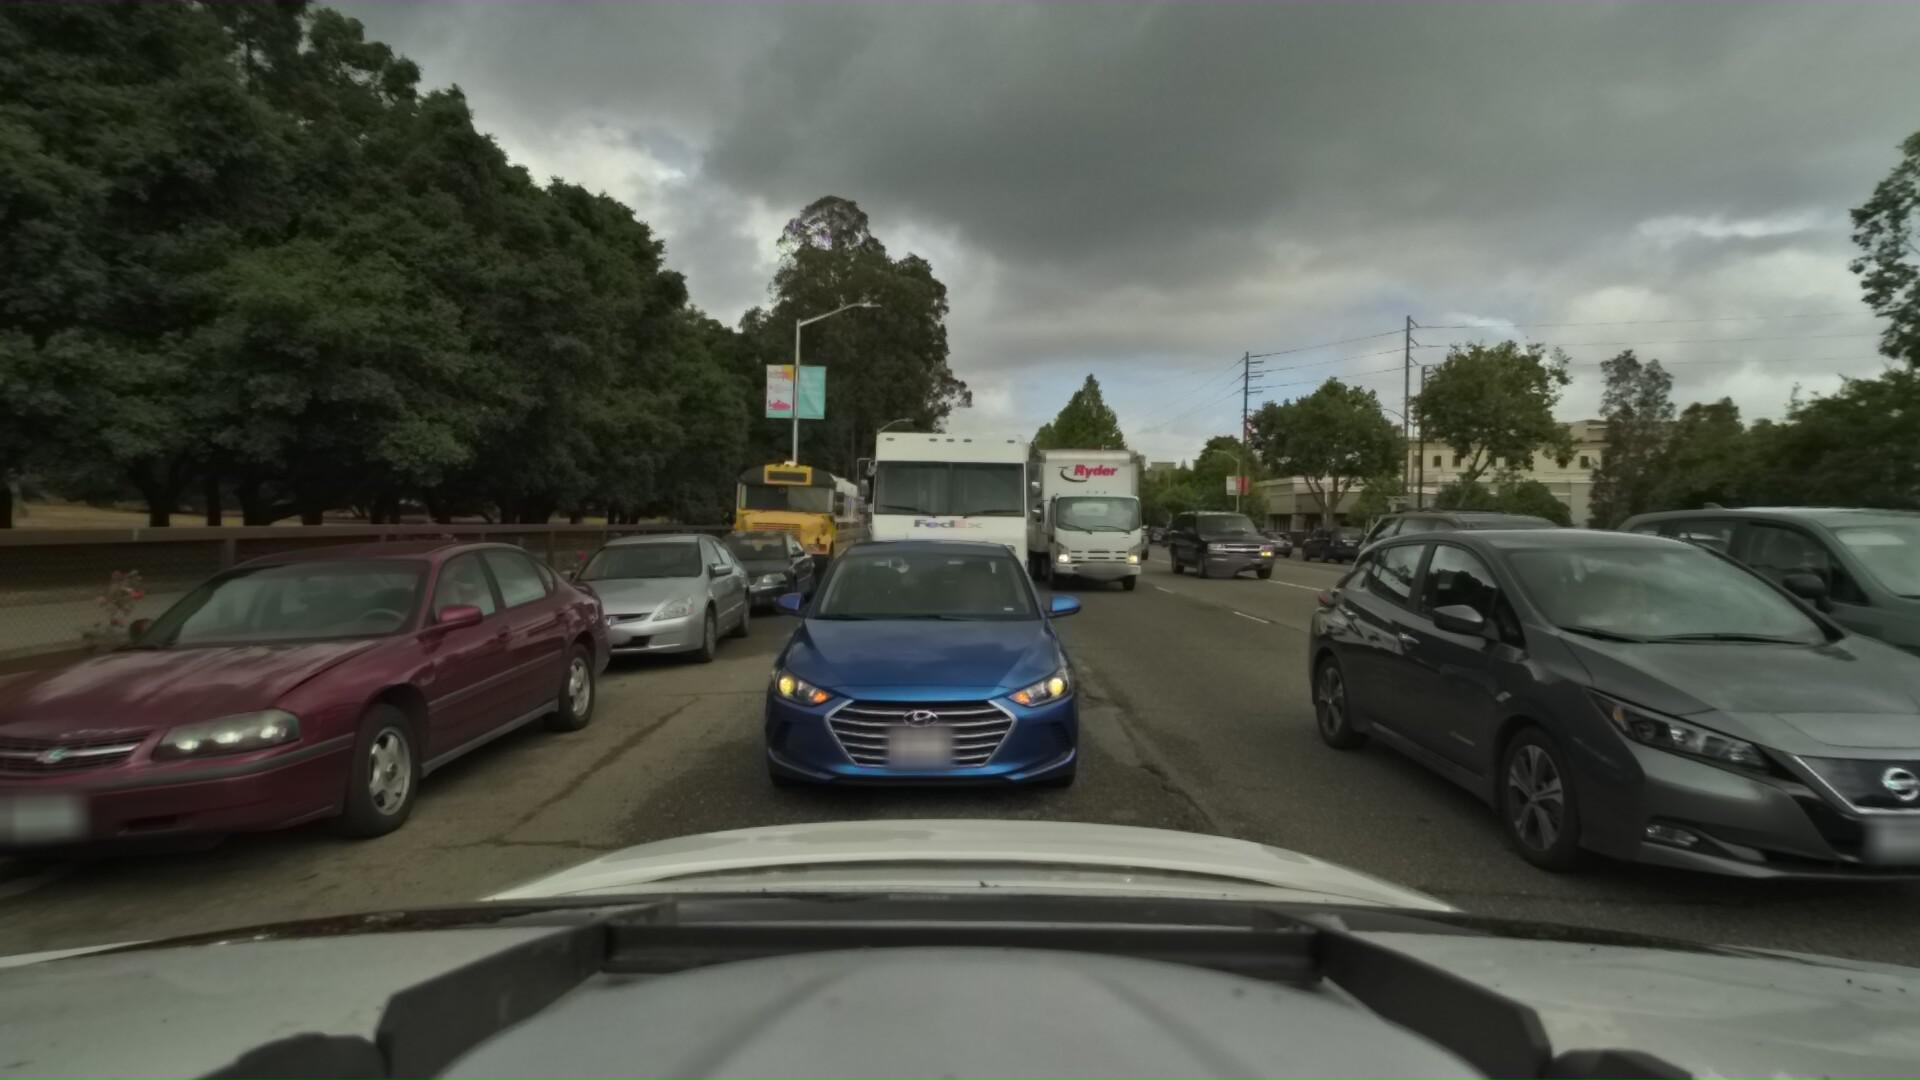bus: (705, 444, 866, 593)
car: (1286, 491, 1920, 978), (0, 526, 629, 947), (1534, 472, 1920, 832), (719, 524, 1091, 835), (1333, 493, 1652, 642), (518, 524, 756, 680), (1553, 522, 1782, 618), (683, 524, 816, 622), (1782, 541, 1920, 624), (1155, 502, 1271, 579), (1097, 512, 1164, 560), (1298, 516, 1367, 560), (814, 517, 877, 564), (1000, 518, 1052, 563), (848, 516, 894, 555), (1244, 527, 1295, 556)
other_vehicle: (861, 484, 909, 545)
truck: (851, 397, 1044, 646), (1015, 425, 1159, 589)
